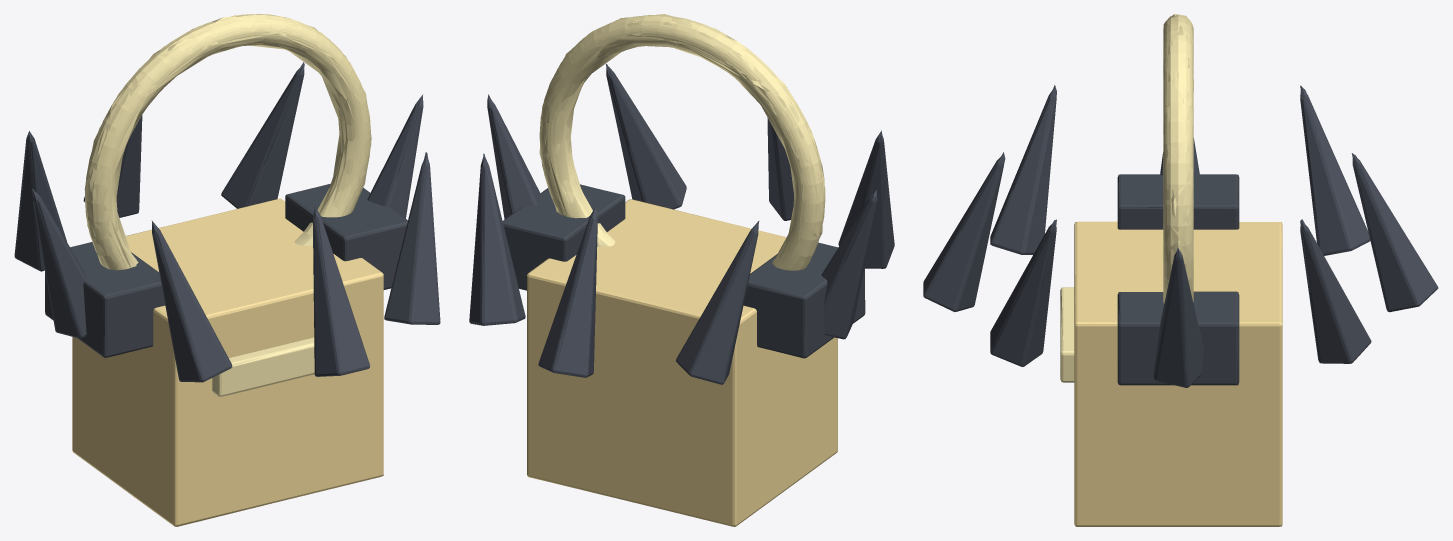
The model's file is SM_Boss_Kurhaus.fbx.
The picture shows the model from 3 angles, left to right: view 1: azimuth 30°, elevation 25°; view 2: azimuth 150°, elevation 25°; view 3: azimuth 270°, elevation 25°; orthographic projection.
Parts seen in each view (by area): view 1: LOD0_SM_Boss_Kurhaus, LOD1_SM_Boss_Kurhaus, LOD3_SM_Boss_Kurhaus, LOD2_SM_Boss_Kurhaus; view 2: LOD0_SM_Boss_Kurhaus, LOD1_SM_Boss_Kurhaus, LOD3_SM_Boss_Kurhaus, LOD2_SM_Boss_Kurhaus; view 3: LOD0_SM_Boss_Kurhaus, LOD1_SM_Boss_Kurhaus, LOD2_SM_Boss_Kurhaus, LOD3_SM_Boss_Kurhaus.
Boxes of the visible parts, x1=… form: LOD0_SM_Boss_Kurhaus: x1=14, y1=14, x2=440, y2=526; LOD1_SM_Boss_Kurhaus: x1=14, y1=15, x2=440, y2=526; LOD3_SM_Boss_Kurhaus: x1=29, y1=16, x2=427, y2=526; LOD2_SM_Boss_Kurhaus: x1=15, y1=14, x2=439, y2=526; LOD0_SM_Boss_Kurhaus: x1=469, y1=15, x2=894, y2=526; LOD1_SM_Boss_Kurhaus: x1=469, y1=15, x2=894, y2=526; LOD3_SM_Boss_Kurhaus: x1=483, y1=14, x2=882, y2=476; LOD2_SM_Boss_Kurhaus: x1=482, y1=15, x2=885, y2=526; LOD0_SM_Boss_Kurhaus: x1=923, y1=14, x2=1437, y2=526; LOD1_SM_Boss_Kurhaus: x1=923, y1=14, x2=1437, y2=526; LOD2_SM_Boss_Kurhaus: x1=924, y1=15, x2=1438, y2=526; LOD3_SM_Boss_Kurhaus: x1=1001, y1=14, x2=1356, y2=526.
Size of the model in its own units: 2.85 by 3.12 by 3.25.
